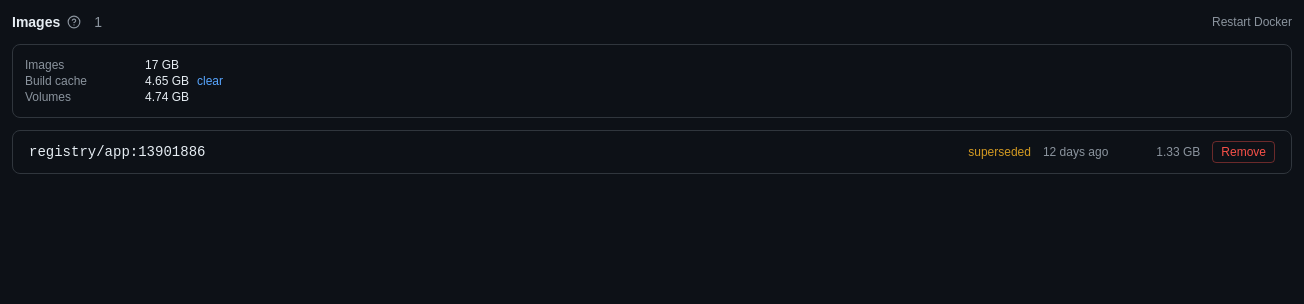
Test case: DockerPage › explains why an unattributed image has no provenance
What coordinates should you click on to do the following:
click the button "registry/app:13901886"
I would click on:
 (117, 152)
Its box is 29,142 -> 956,162.
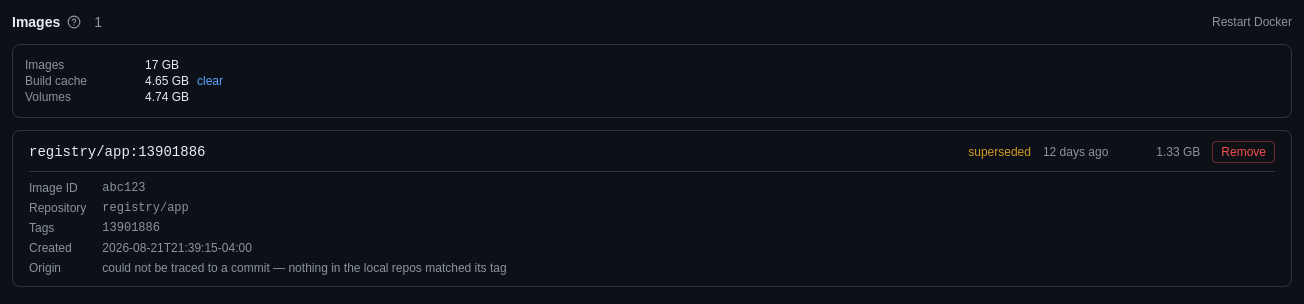
Check: the text "could not be traced to a commit" is shown, box 102,261 -> 507,275
